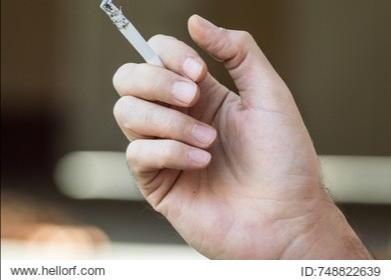Cigarette: (100, 1, 166, 72)
